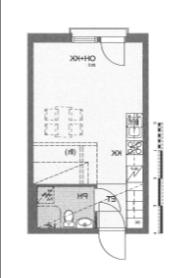bathroom: (36, 185, 96, 229)
door: (96, 227, 125, 262), (98, 35, 127, 67), (96, 201, 125, 232), (92, 186, 122, 212)
perimeter: (27, 34, 148, 234)
window: (68, 33, 97, 44)
